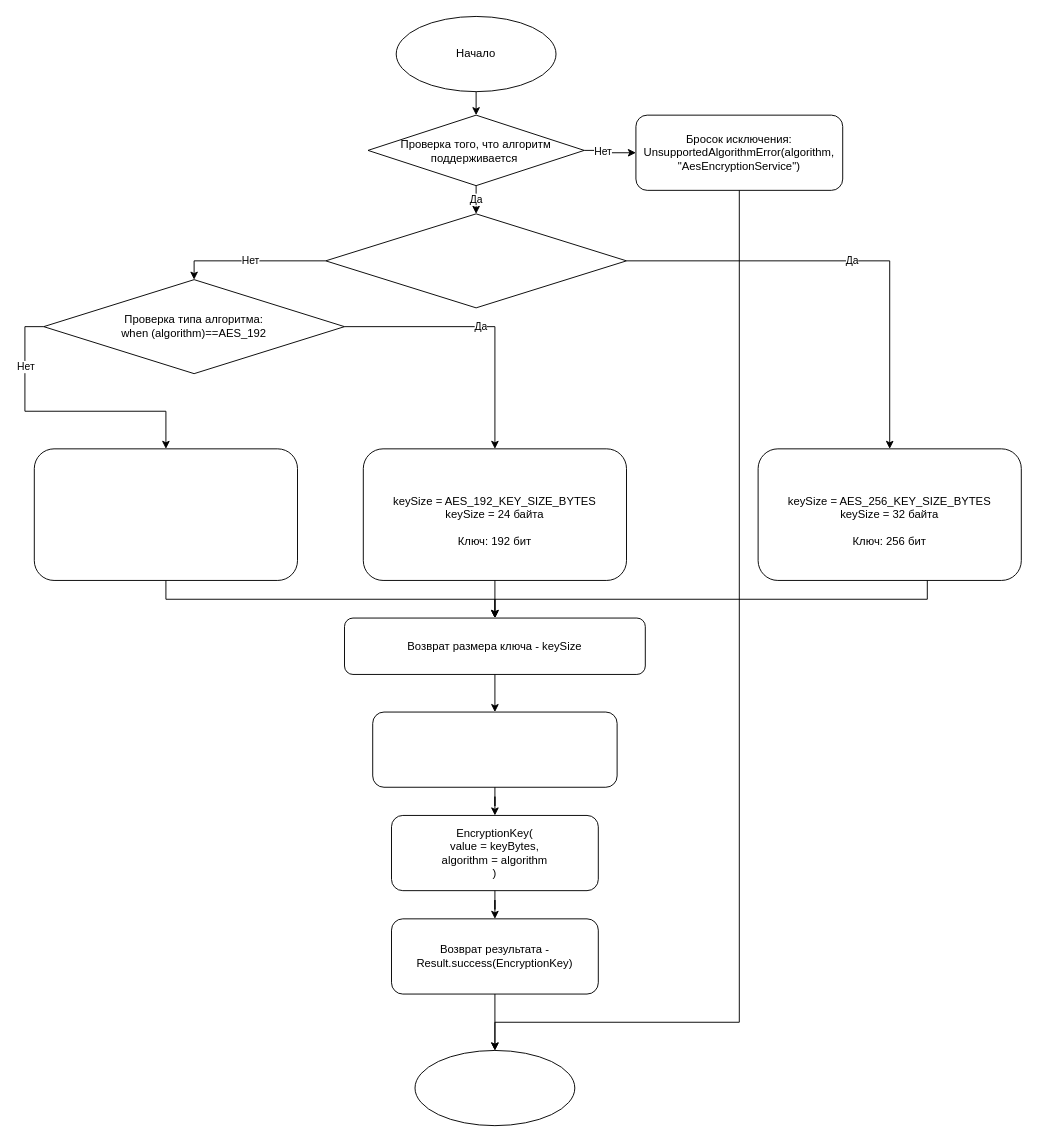
This 1038x1142 diagram has some shape labels left out. Each missing label, with the centre of its shape:
"keyBytes = ByteArray(keySize) SecureRandom().nextBytes(keyBytes)" goes at (x=494, y=749).
"keySize = AES_128_KEY_SIZE_BYTES keySize = 16 байт Ключ: 128 бит" goes at (x=165, y=514).
"Конец" goes at (x=494, y=1088).
"Проверка типа алгоритма: when (algorithm)==AES_256" goes at (x=476, y=260).
